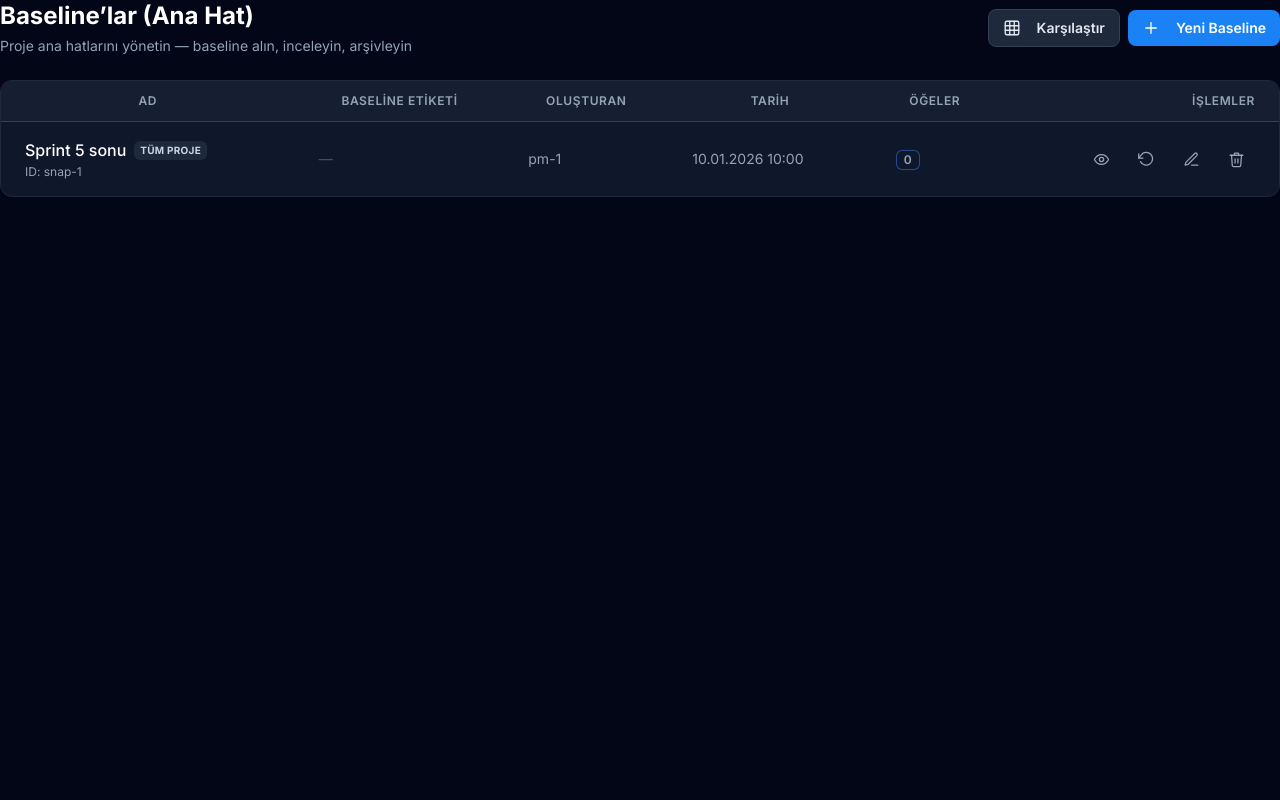
Test: SnapshotDetailModal — modular öznitelikler + menü yapısı › Gereksinimler sekmesi tek büyük havuz yerine yakalanan menü sayfasına göre bölünür
The width and height of the screenshot is (1280, 800).
Click the button titled "Görüntüle".
click(1102, 159)  # box top-left (1083, 144), bottom-right (1120, 174)
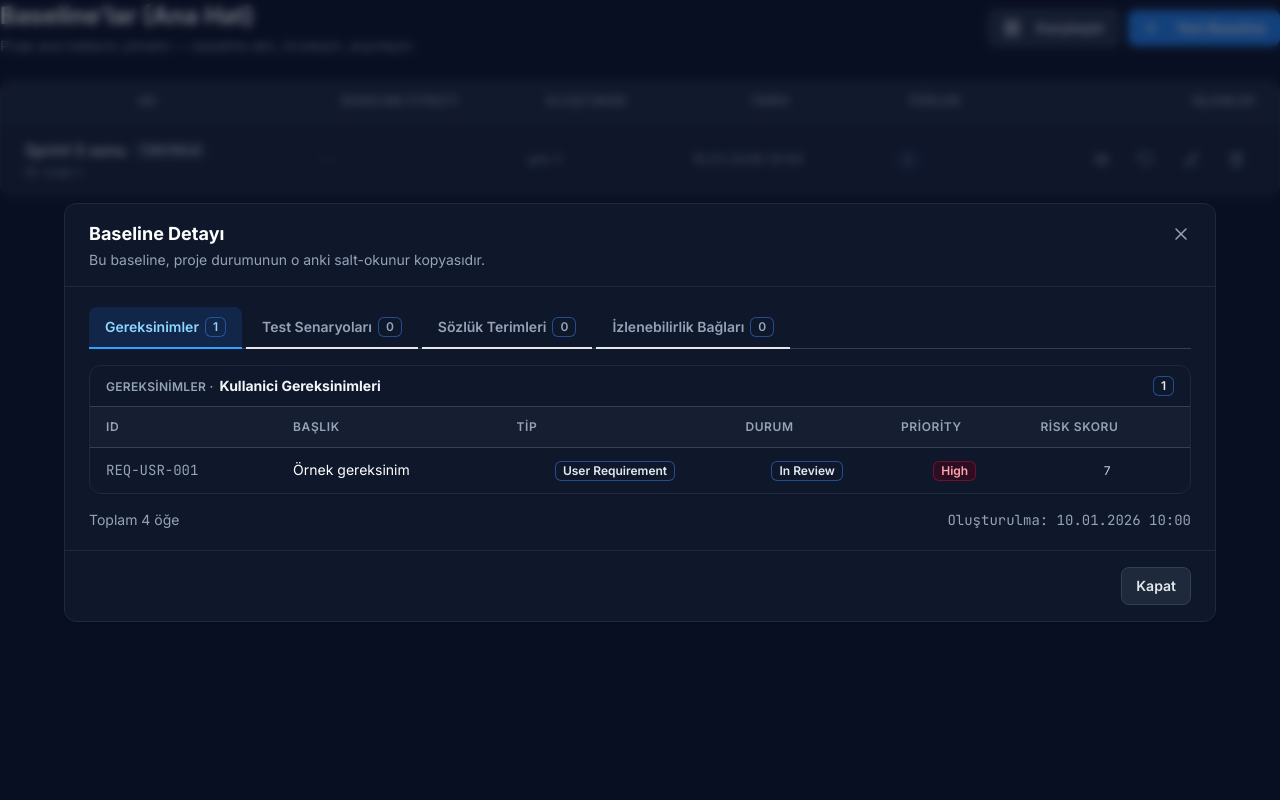
Now the text "REQ-USR-001" is shown, box top-left (90, 447), bottom-right (277, 492)
Now the text "Kullanici Gereksinimleri" is shown, box top-left (220, 376), bottom-right (381, 394)
